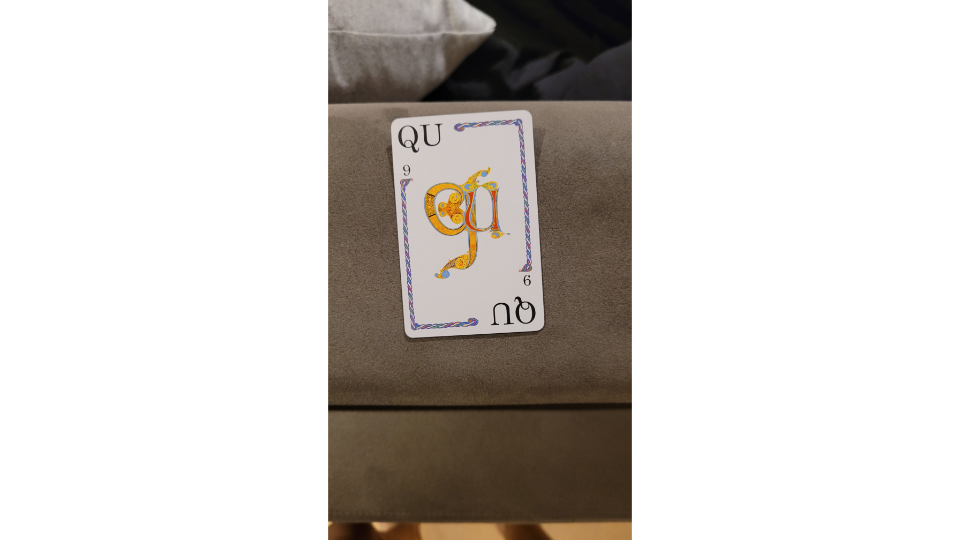QU: (384, 107, 550, 346)
